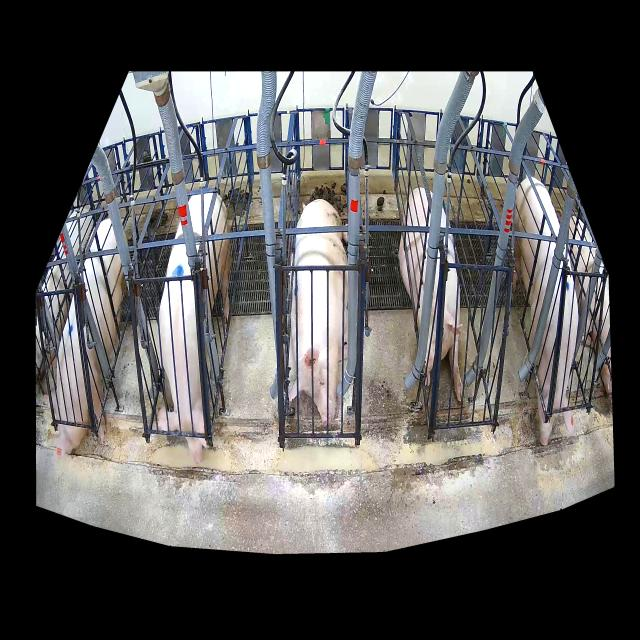pig: (158, 192, 230, 462), (44, 220, 124, 456), (511, 176, 578, 445), (399, 187, 463, 401), (289, 199, 348, 426)
